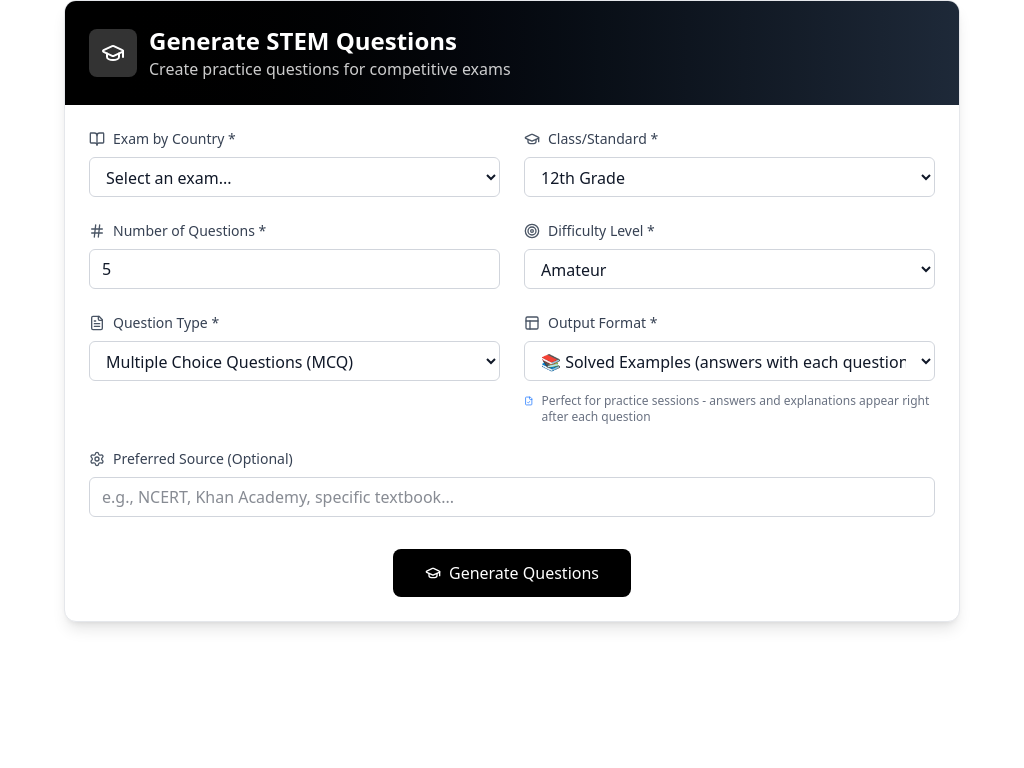
Scenario: QuestionForm Component Tests › should clear error when field is corrected
Note: Submit to trigger validation error
Submit the form with test id "question-form", box [65,105,959,621]
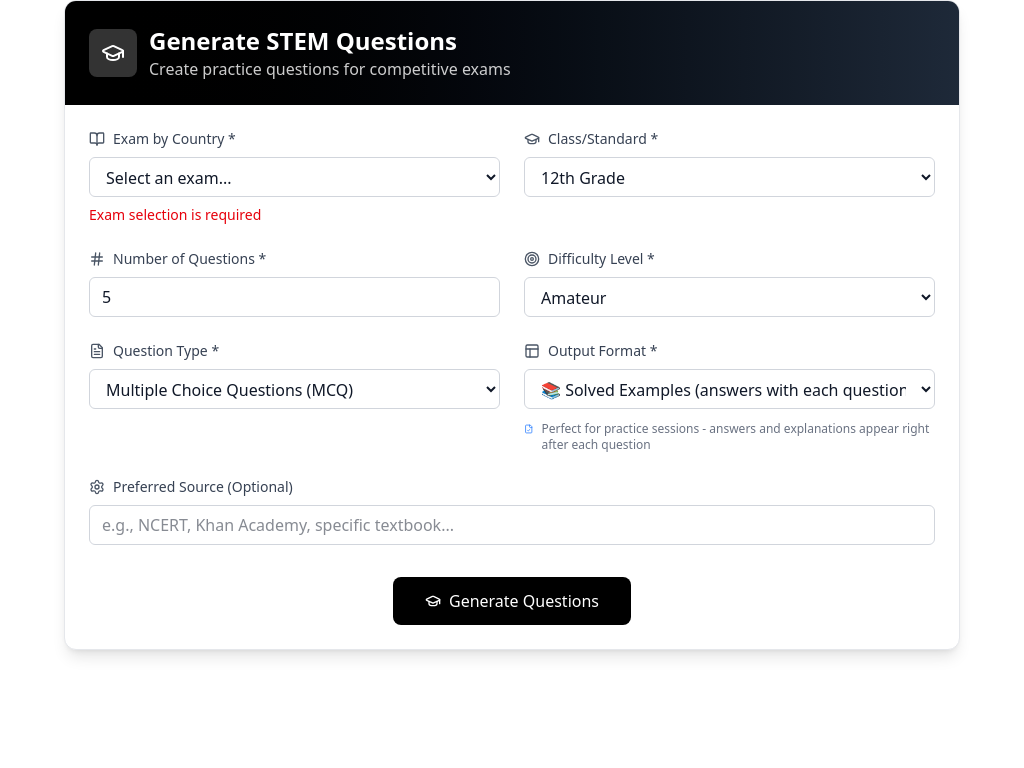
Expected: the text "Exam selection is required" is shown, [89,205,261,224]
Note: Fix the error by selecting an exam
Select "🇮🇳 JEE (India)" in the dropdown labelled "Exam by Country *" at (294, 177), box [89,157,500,197]
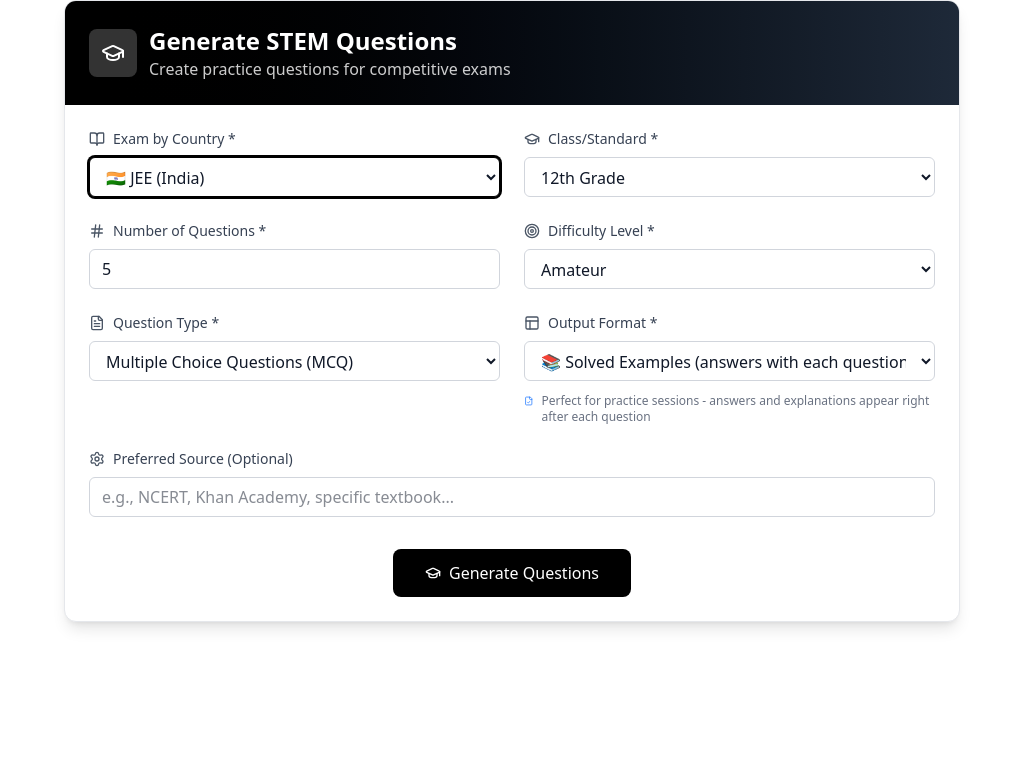
Expected: the text "Exam selection is required" is gone
